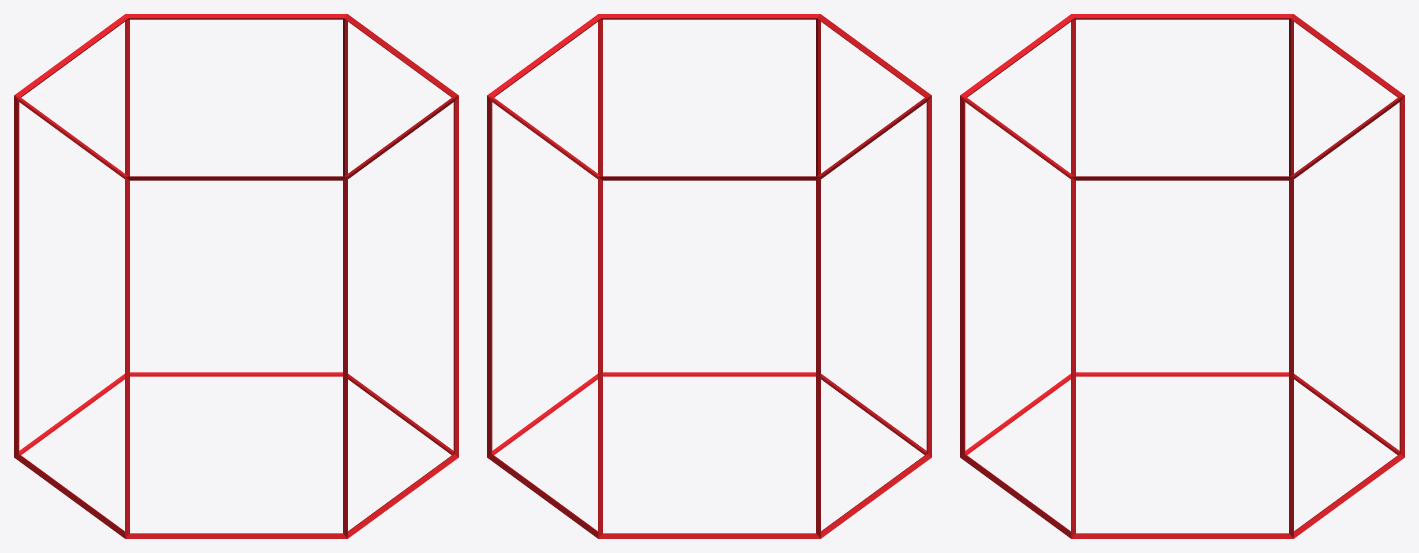
3 views of the same model, side by side, from view 1: azimuth 30°, elevation 25°; view 2: azimuth 150°, elevation 25°; view 3: azimuth 270°, elevation 25° (orthographic).
Parts seen in each view (by area): view 1: 六角柱(邊); view 2: 六角柱(邊); view 3: 六角柱(邊).
Boxes of the visible parts, bbox=[...] form: 六角柱(邊): bbox=[14, 14, 458, 538]; 六角柱(邊): bbox=[487, 14, 931, 538]; 六角柱(邊): bbox=[960, 14, 1404, 538].
Size of the model in its own units: 1.75 by 1.82 by 2.02.
